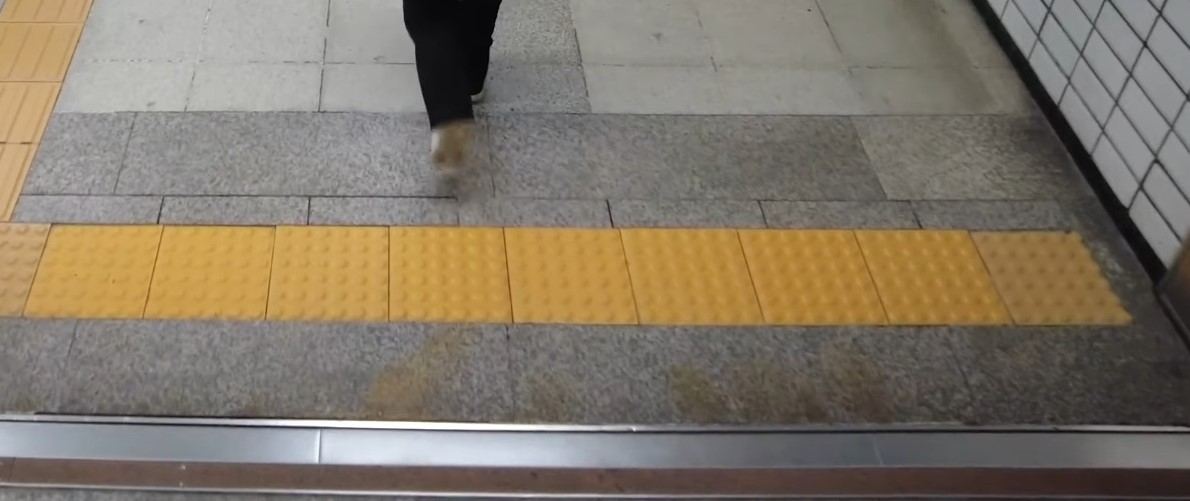guideBlock: (1, 22, 84, 92)
warningBlock: (839, 215, 1014, 327), (619, 227, 771, 331), (487, 222, 641, 313), (746, 228, 881, 322), (154, 219, 282, 317), (977, 225, 1116, 313), (380, 232, 517, 316), (276, 232, 390, 317), (44, 230, 152, 312)
